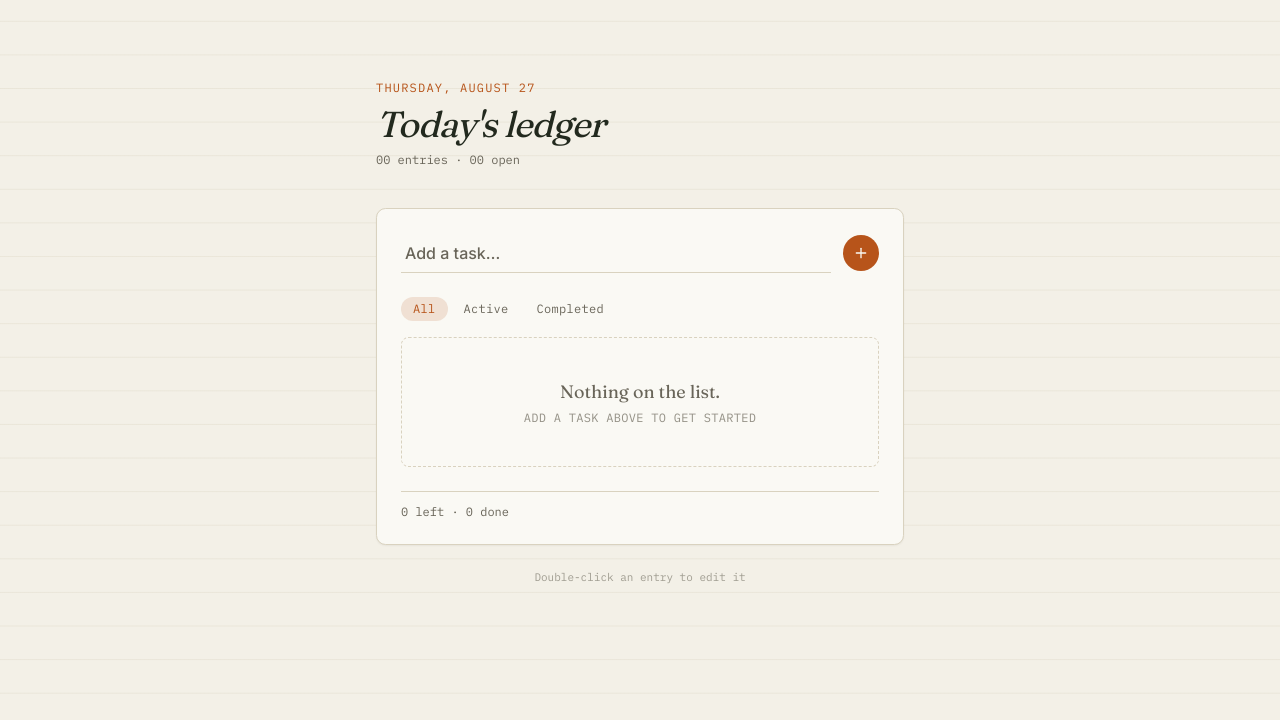
Test case: Todo app integration (Page + useTodos + api.ts, network mocked) › adds a todo through the full stack: form submit → hook → api → re-render
Expected: the text "Nothing on the list." is shown, left=560, top=380, right=720, bottom=403
Type "New integration task" into the field with placeholder "Add a task…".
click(616, 253); type("New integration task")  # box left=401, top=233, right=831, bottom=273
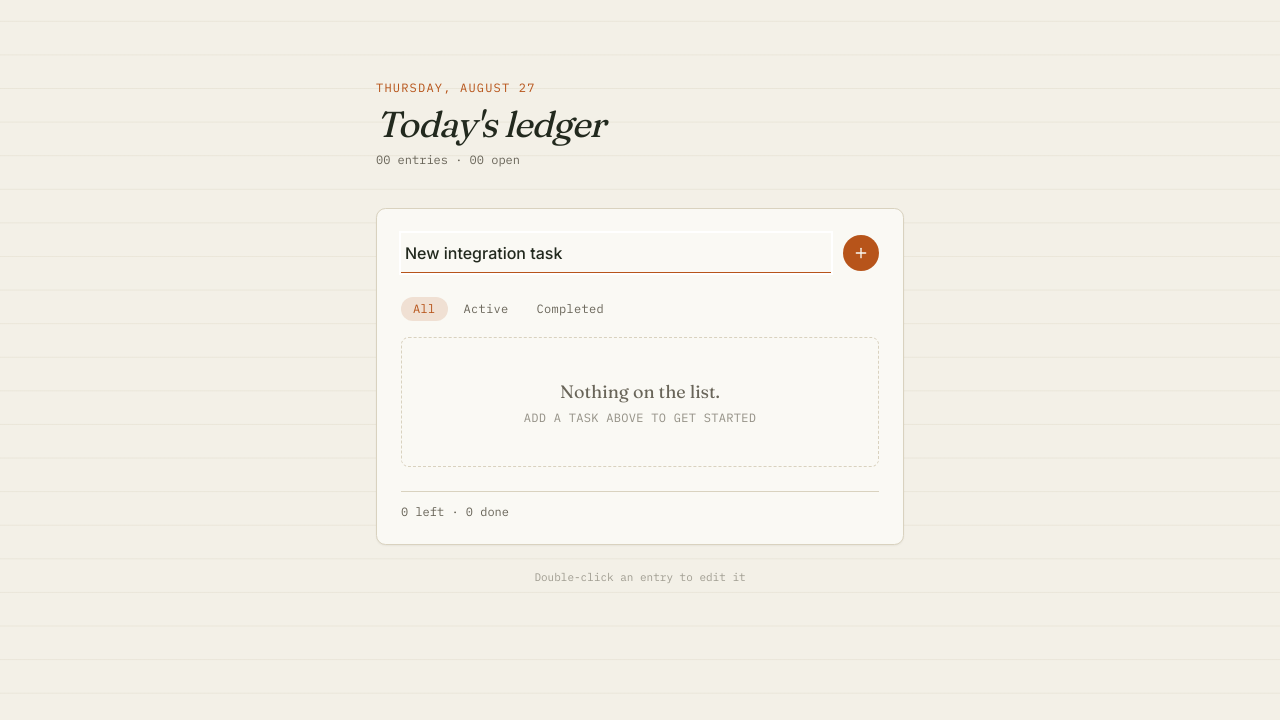
Click the button named "Add task".
click(861, 253)  # box left=843, top=235, right=879, bottom=271
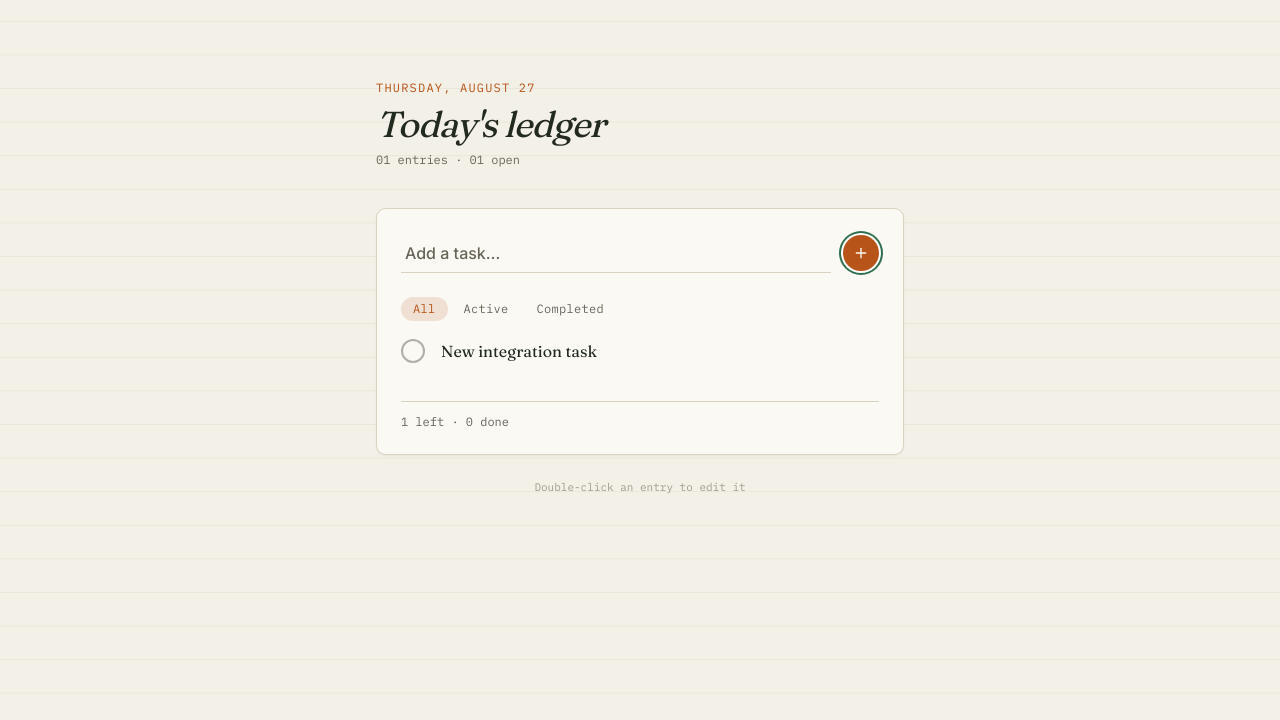
Now the text "New integration task" is shown, box left=441, top=341, right=597, bottom=361
